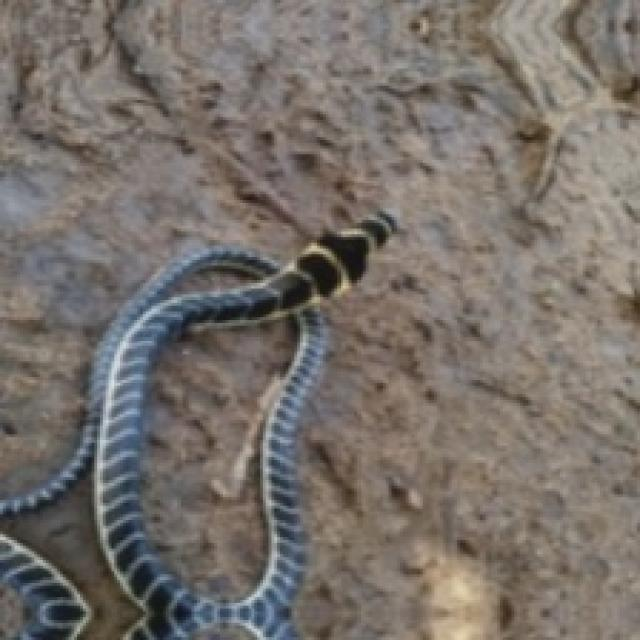king cobra: (0, 211, 394, 637), (137, 306, 300, 600), (0, 534, 89, 637)
